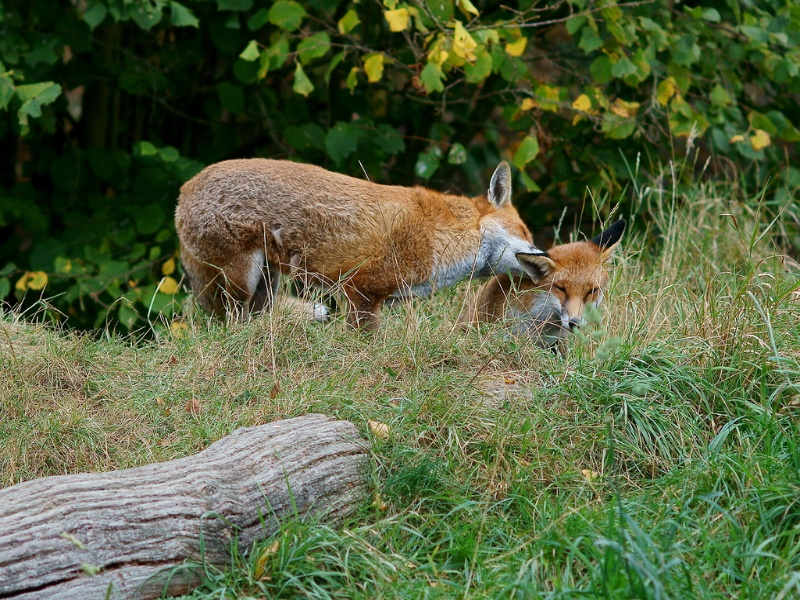fox: (161, 137, 545, 354), (447, 231, 633, 362)
